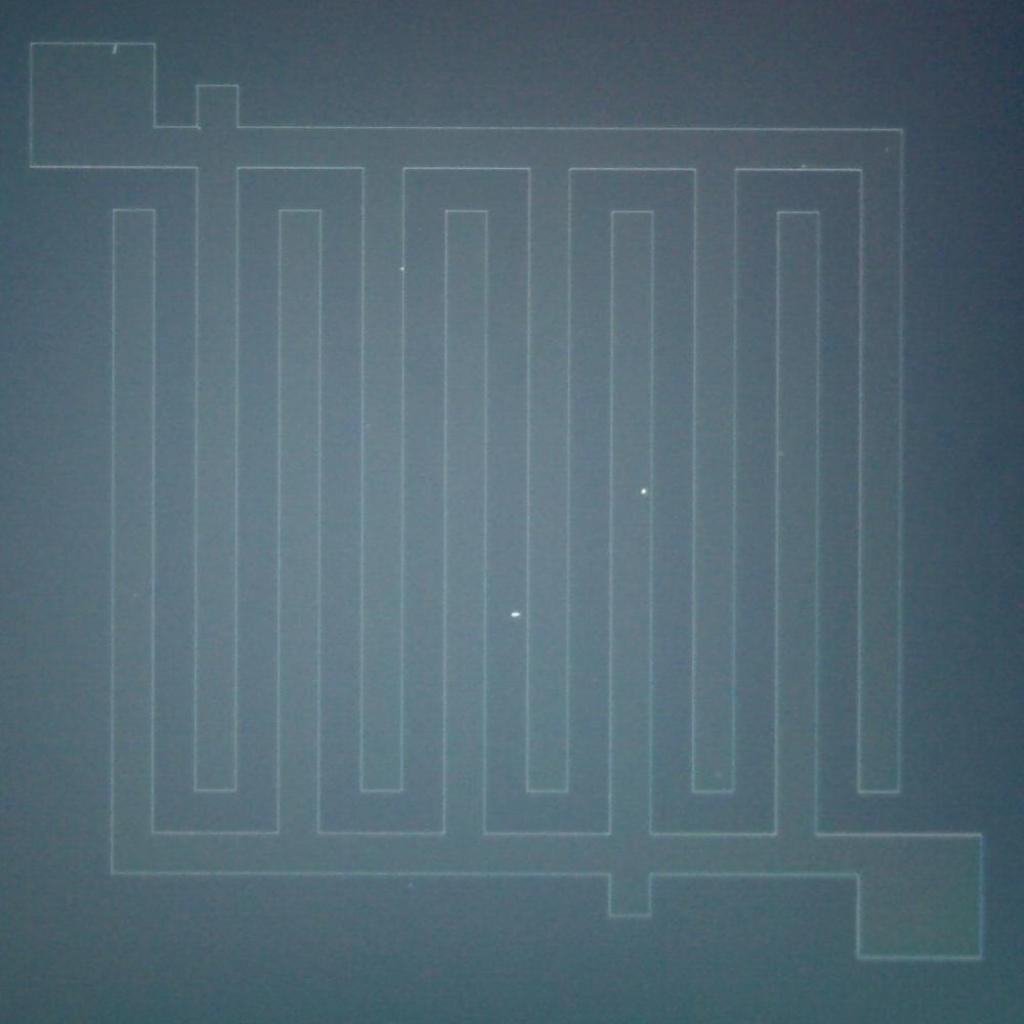dot: (109, 45, 118, 54), (512, 611, 520, 619), (198, 126, 202, 130), (802, 164, 806, 168), (400, 266, 404, 270), (642, 489, 646, 493)
